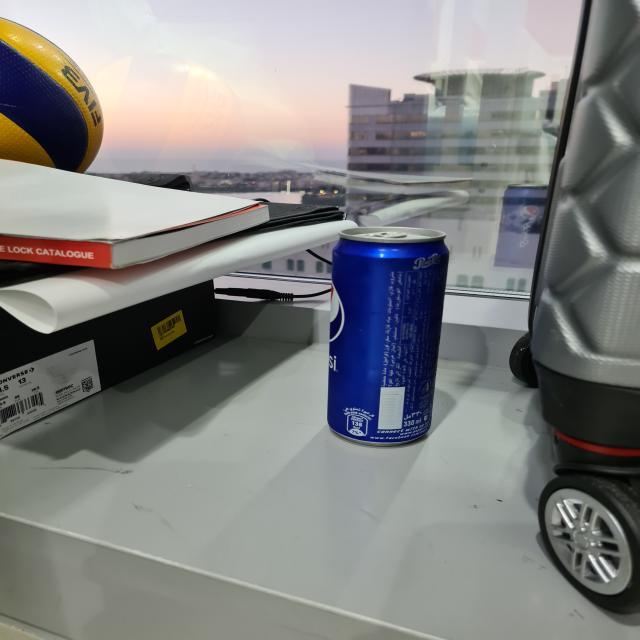can: (328, 226, 451, 448)
